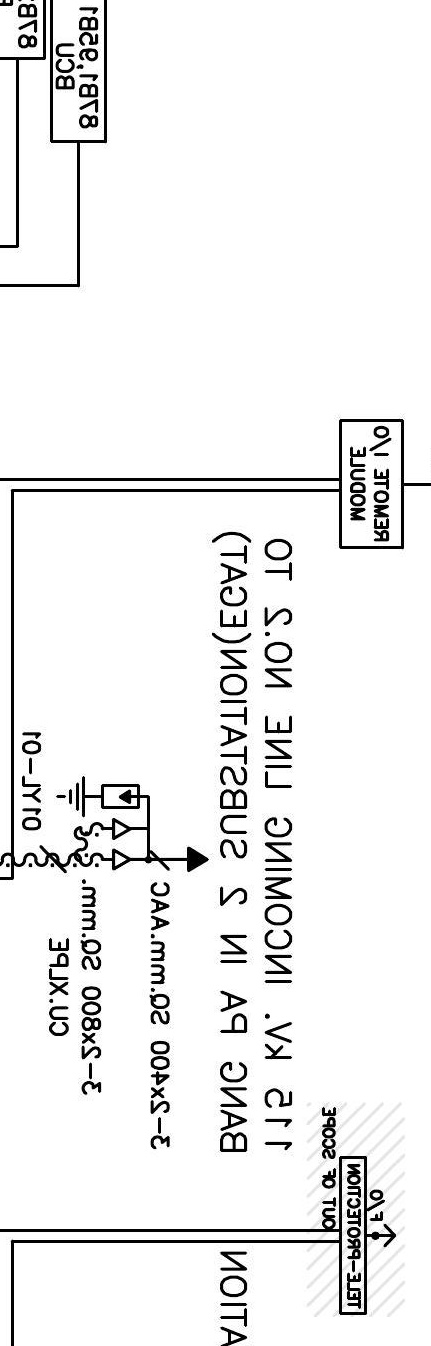115_la: (55, 775, 140, 818)
remote_io_module: (339, 419, 404, 550)
tele_protection: (338, 1155, 368, 1316)
terminator_double: (111, 817, 151, 872)
